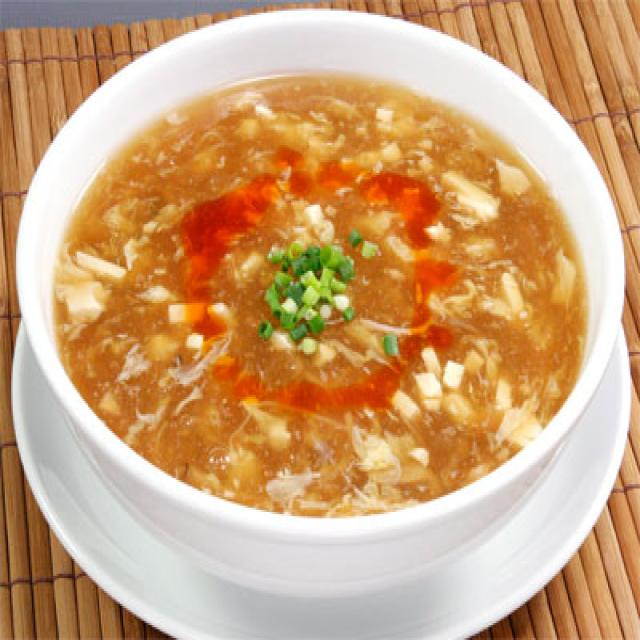汤锅炖物: (8, 4, 635, 640)
